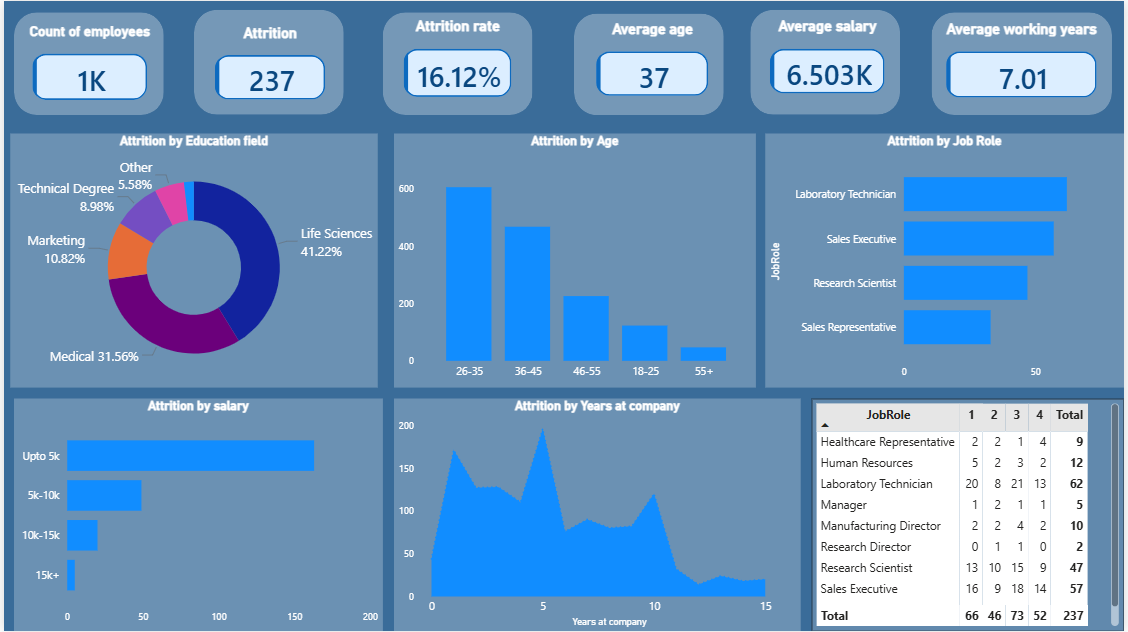

What the dashboard file says about the page in this screenshot:
{"tool":"powerbi","page":{"name":"Page 1","canvas":[1280,720],"ordinal":0},"visuals":[{"type":"shape","box":[1060,12.5,206.2,117.5],"z":0},{"type":"shape","box":[852.5,10,171.2,120],"z":1000},{"type":"shape","box":[651.2,13.8,171.2,116.2],"z":2000},{"type":"shape","box":[432.5,12.5,171.2,117.5],"z":3000},{"type":"shape","box":[217.5,10,171.2,120],"z":4000},{"type":"shape","box":[11.2,12.5,171.2,117.5],"z":5000},{"type":"cardVisual","title":"Count of employees","fields":{"Data":["CountNonNull(HR_Analytics.EmpID)"]},"box":[15,25,165,105],"z":6000},{"type":"cardVisual","title":"Average salary","fields":{"Data":["Avg(HR_Analytics.MonthlyIncome)"]},"box":[858.8,18.8,165,105],"z":7000},{"type":"cardVisual","title":"Average age","fields":{"Data":["Avg(HR_Analytics.Age)"]},"box":[660,21.2,162.5,105],"z":8000},{"type":"cardVisual","title":"Attrition rate","fields":{"Data":["HR_Analytics.Attrition rate"]},"box":[440,18.8,157.5,108.8],"z":9000},{"type":"cardVisual","title":"Attrition","fields":{"Data":["Sum(HR_Analytics.Attrition_Count)"]},"box":[223.8,25,160,105],"z":10000},{"type":"cardVisual","title":"Average working years","fields":{"Data":["Avg(HR_Analytics.YearsAtCompany)"]},"box":[1060,21.2,206.2,106.2],"z":11000},{"type":"donutChart","title":"Attrition by Education field","fields":{"Category":["HR_Analytics.EducationField"],"Y":["CountNonNull(HR_Analytics.Attrition)"]},"box":[7.5,151.2,420,290],"z":12000},{"type":"columnChart","title":"Attrition by Age","fields":{"Category":["HR_Analytics.AgeGroup"],"Y":["CountNonNull(HR_Analytics.Attrition)"]},"box":[445,151.7,413.3,290],"z":13000},{"type":"pivotTable","fields":{"Rows":["HR_Analytics.JobRole"],"Columns":["HR_Analytics.JobSatisfaction"],"Values":["Sum(HR_Analytics.Attrition_Count)"]},"box":[922.5,453.8,357.5,266.2],"z":14000},{"type":"barChart","title":"Attrition by salary","fields":{"Category":["HR_Analytics.SalarySlab"],"Y":["Sum(HR_Analytics.Attrition_Count)"]},"box":[11.2,453.8,421.2,266.2],"z":15000},{"type":"barChart","title":"Attrition by Job Role","fields":{"Category":["HR_Analytics.JobRole"],"Y":["Sum(HR_Analytics.Attrition_Count)"]},"box":[870,151.2,410,290],"z":16000},{"type":"areaChart","title":"Attrition by Years at company","fields":{"Category":["HR_Analytics.YearsAtCompany"],"Y":["CountNonNull(HR_Analytics.Attrition)"]},"box":[445,453.8,465,266.2],"z":17000}]}

Visuals, with their boxes in screenshot pixels (x1, y1, x2, y2), scaled from the page's 1280x720 canvas onto the 1128x632 screenshot:
shape: {"left": 934, "top": 11, "right": 1116, "bottom": 114}
shape: {"left": 751, "top": 9, "right": 902, "bottom": 114}
shape: {"left": 574, "top": 12, "right": 725, "bottom": 114}
shape: {"left": 381, "top": 11, "right": 532, "bottom": 114}
shape: {"left": 192, "top": 9, "right": 343, "bottom": 114}
shape: {"left": 10, "top": 11, "right": 161, "bottom": 114}
"Count of employees" cardVisual: {"left": 13, "top": 22, "right": 159, "bottom": 114}
"Average salary" cardVisual: {"left": 757, "top": 17, "right": 902, "bottom": 109}
"Average age" cardVisual: {"left": 582, "top": 19, "right": 725, "bottom": 111}
"Attrition rate" cardVisual: {"left": 388, "top": 17, "right": 527, "bottom": 112}
"Attrition" cardVisual: {"left": 197, "top": 22, "right": 338, "bottom": 114}
"Average working years" cardVisual: {"left": 934, "top": 19, "right": 1116, "bottom": 112}
"Attrition by Education field" donutChart: {"left": 7, "top": 133, "right": 377, "bottom": 387}
"Attrition by Age" columnChart: {"left": 392, "top": 133, "right": 756, "bottom": 388}
pivotTable - HR_Analytics.JobRole x HR_Analytics.JobSatisfaction: {"left": 813, "top": 398, "right": 1127, "bottom": 631}
"Attrition by salary" barChart: {"left": 10, "top": 398, "right": 381, "bottom": 631}
"Attrition by Job Role" barChart: {"left": 767, "top": 133, "right": 1127, "bottom": 387}
"Attrition by Years at company" areaChart: {"left": 392, "top": 398, "right": 802, "bottom": 631}
